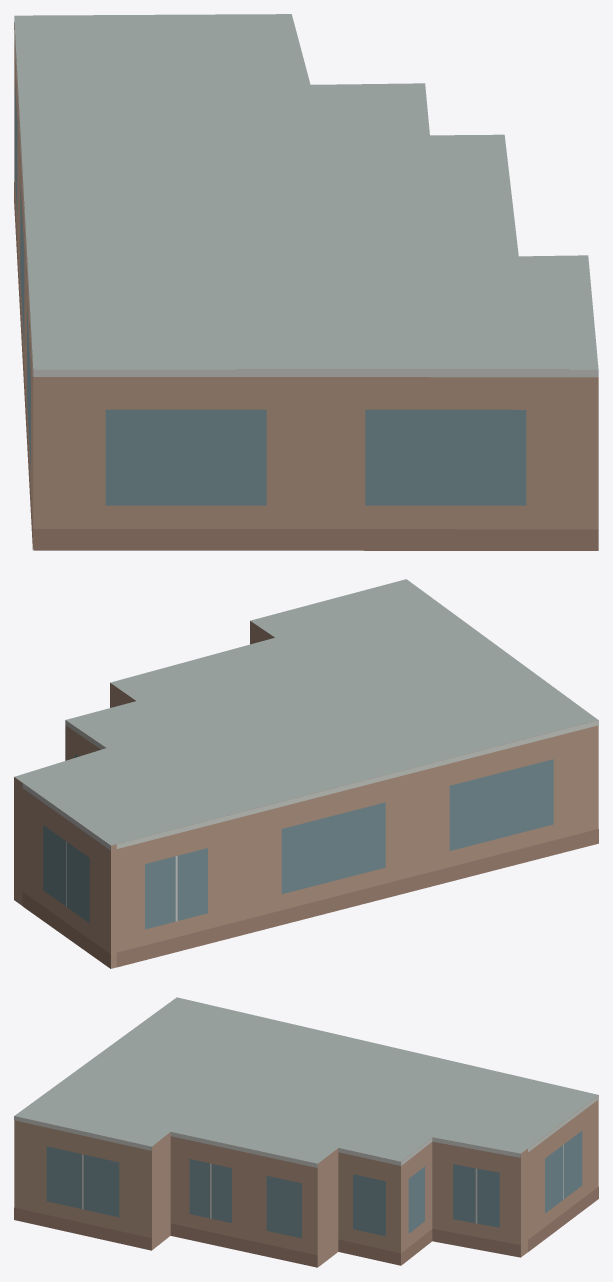
Rendered from survey-upis-32723858.glb.
3 renders of one model, top to bottom at view 1: azimuth 30°, elevation 25°; view 2: azimuth 150°, elevation 25°; view 3: azimuth 270°, elevation 25°, orthographic. The views are drawn at different scales.
Visible parts, largest first — view 1: survey-upis-32723858.tmp; view 2: survey-upis-32723858.tmp; view 3: survey-upis-32723858.tmp.
Boxes of the visible parts, <box> form: survey-upis-32723858.tmp: <box>14,14,598,550</box>; survey-upis-32723858.tmp: <box>14,579,598,968</box>; survey-upis-32723858.tmp: <box>14,997,598,1267</box>.
Size of the model in its own units: 10.49 by 3.05 by 15.56.
